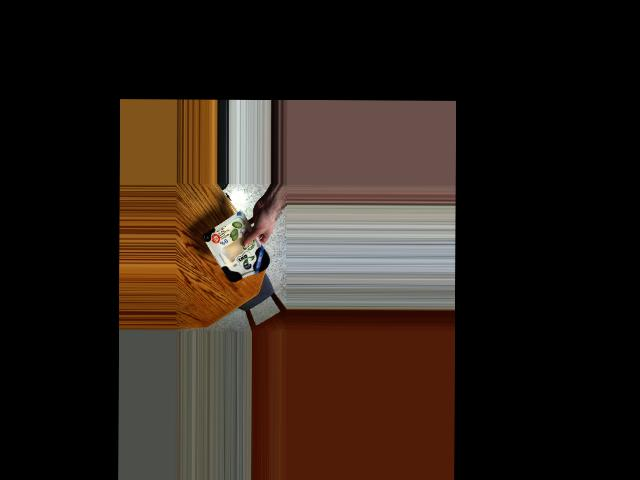cheese: (208, 220, 270, 287)
